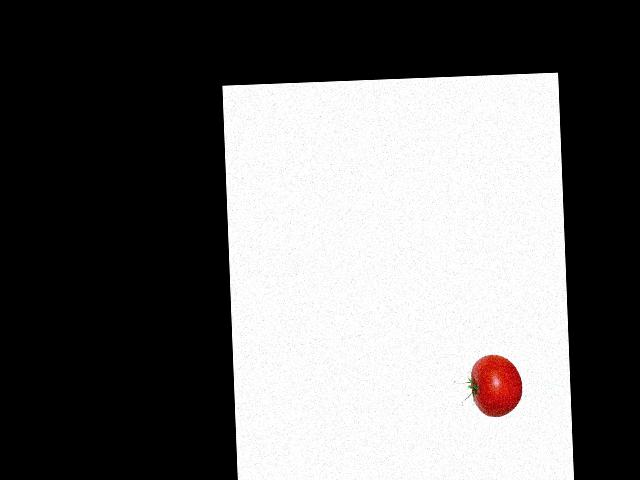tomato: (469, 352, 523, 417)
